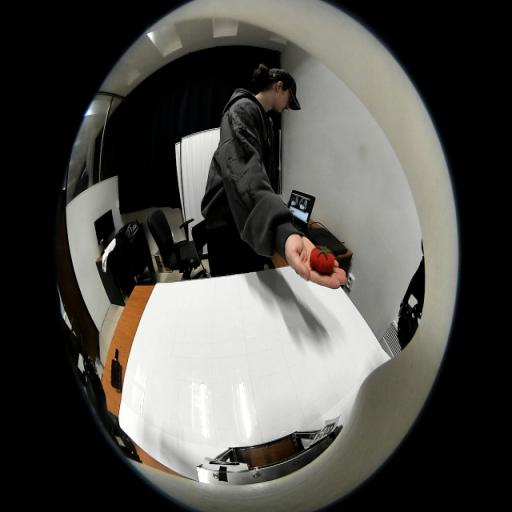Tomato: (310, 245, 334, 274)
